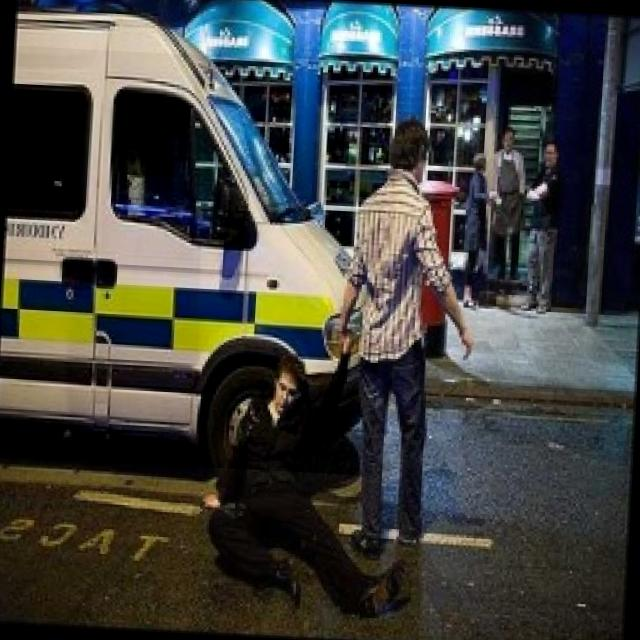ambulance: (0, 46, 393, 476)
